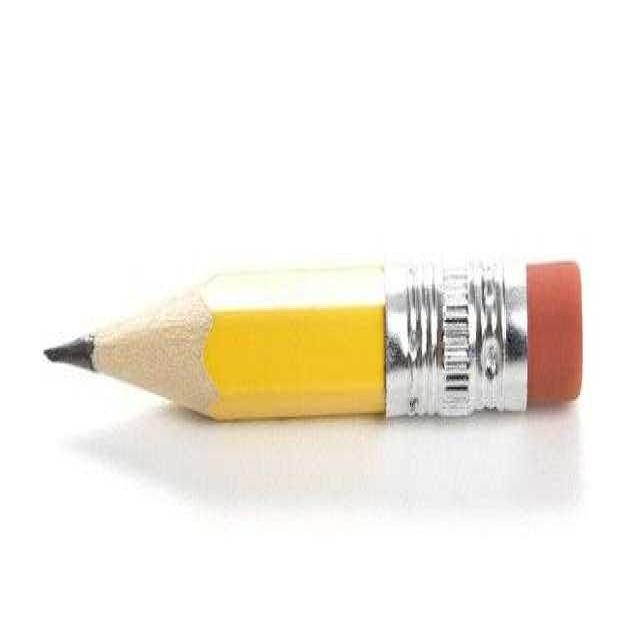pencil: (31, 236, 600, 460)
